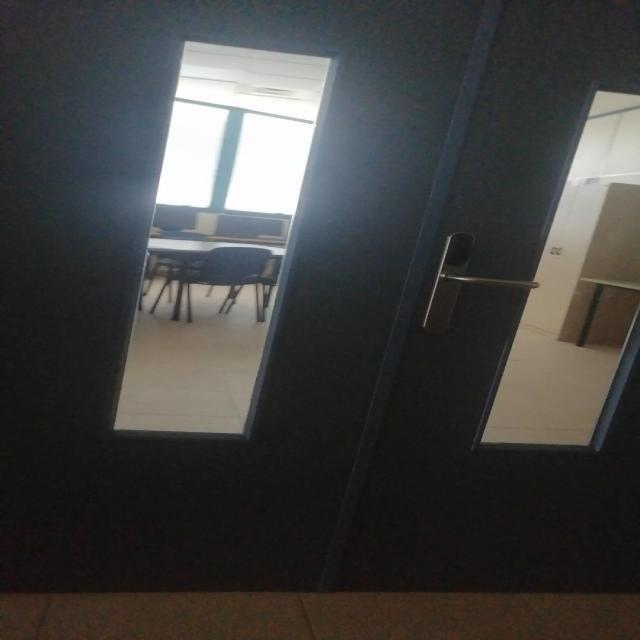door_handle: (431, 269, 545, 293)
